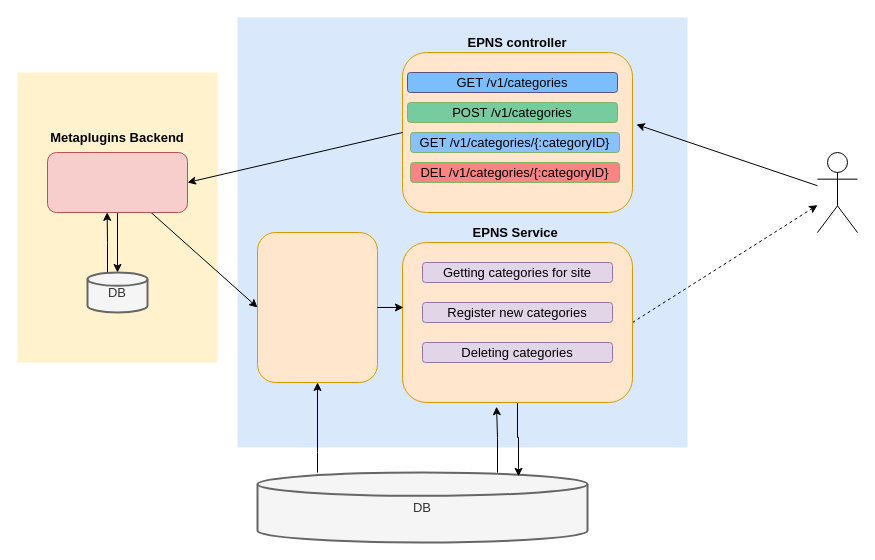
This 875x560 diagram has some shape labels left out. The shapes that lost their labels are listed below. From the top down, each one's centre as x and y in pixels, then its label:
At point 117,182: "Signed JWT Validator".
At point 837,192: "Actor".
At point 317,307: "EPNS Site Registration validator".
